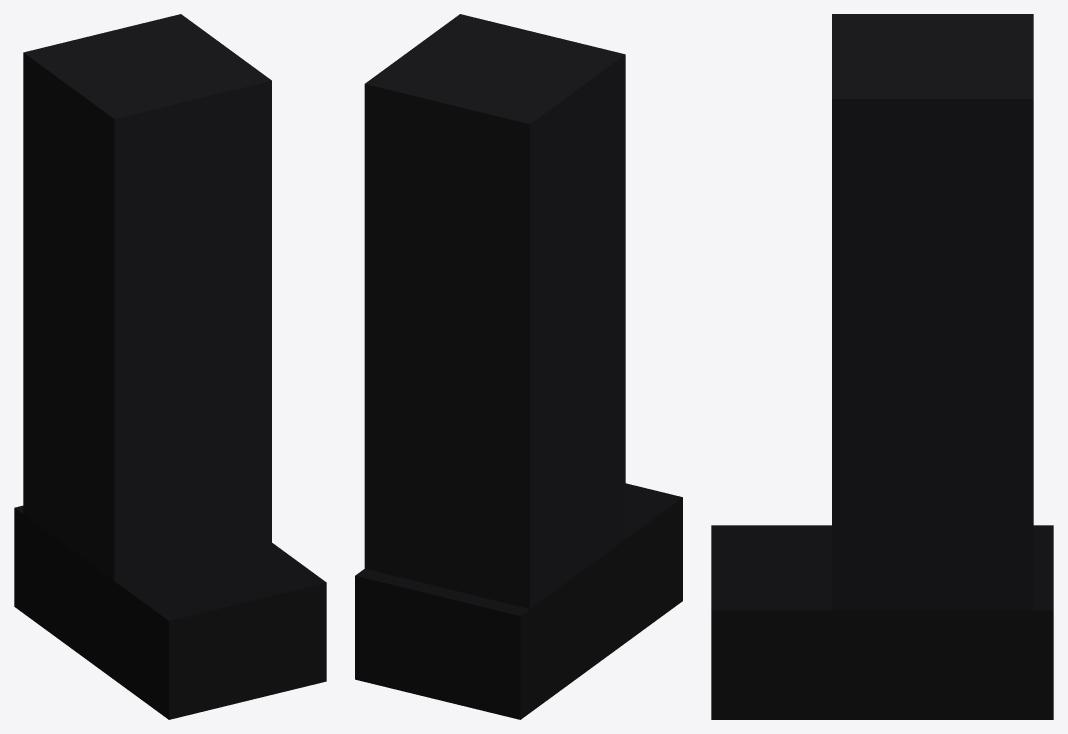
The model's file is suitman_leg.obj.
The picture shows the model from 3 angles, left to right: view 1: azimuth 30°, elevation 25°; view 2: azimuth 150°, elevation 25°; view 3: azimuth 270°, elevation 25°; orthographic projection. The views are drawn at different scales.
Visible parts, largest first — view 1: suitman_leg; view 2: suitman_leg; view 3: suitman_leg.
Part boxes in pixels (left/top/right/bottom): suitman_leg: left=14, top=14, right=326, bottom=719; suitman_leg: left=355, top=14, right=682, bottom=719; suitman_leg: left=711, top=14, right=1053, bottom=719.
Bounding box in the file's own units: 0.1 × 0.34 × 0.17.
1 material, 1 textured.
